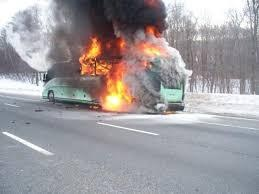fire: (78, 27, 166, 110)
